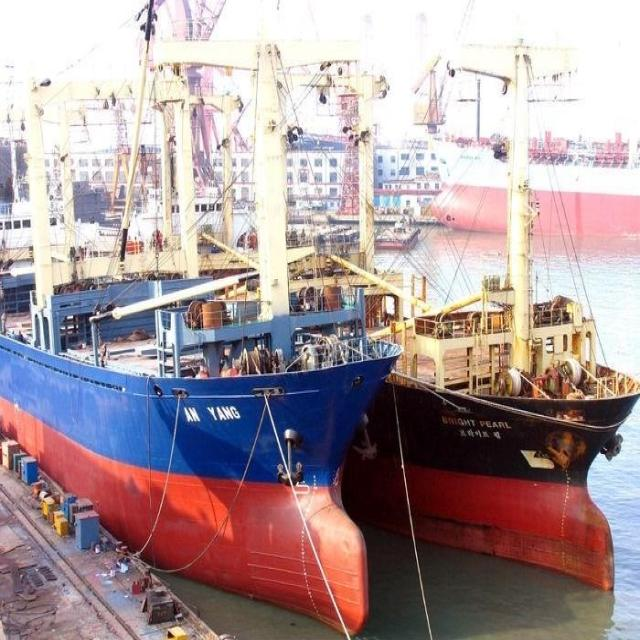cargoship: (15, 172, 407, 611), (374, 235, 622, 570)
